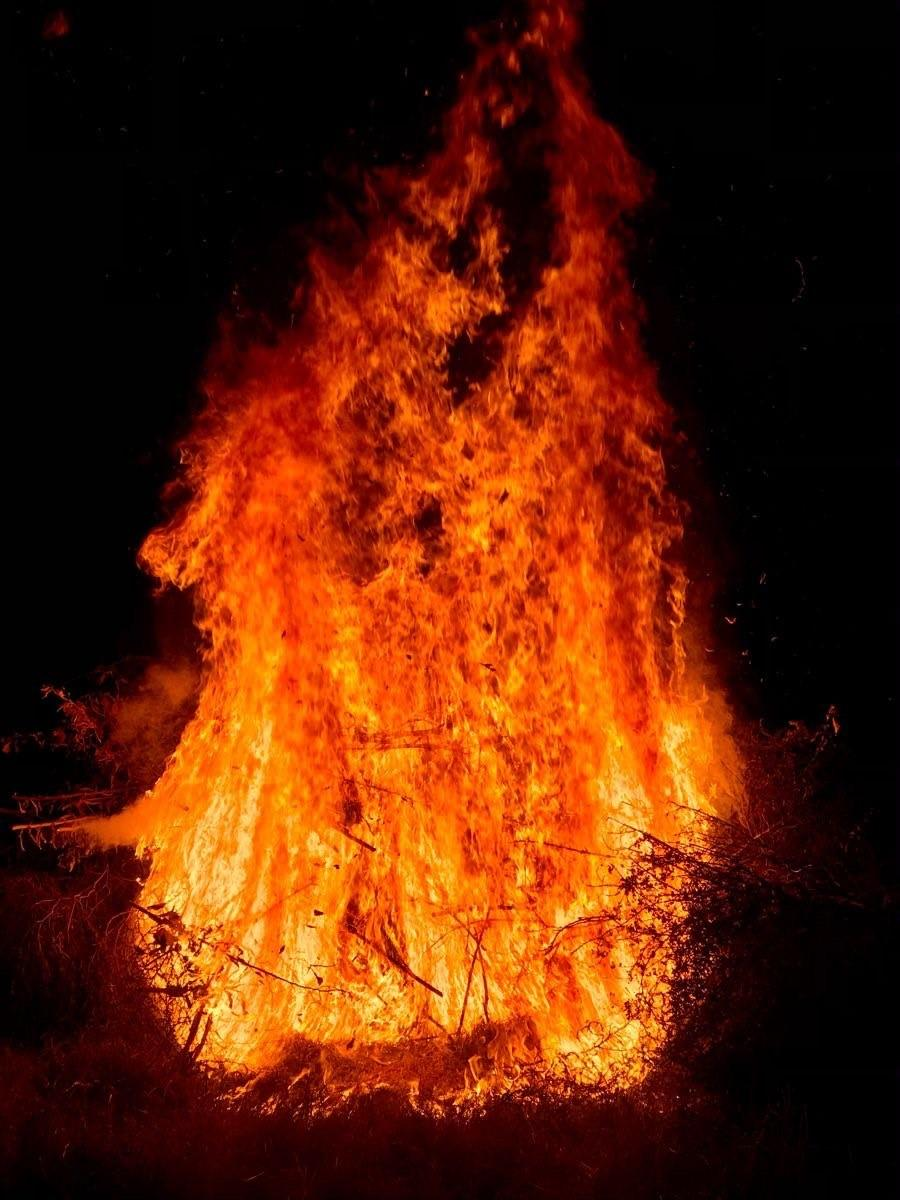fire: (87, 88, 770, 1190)
